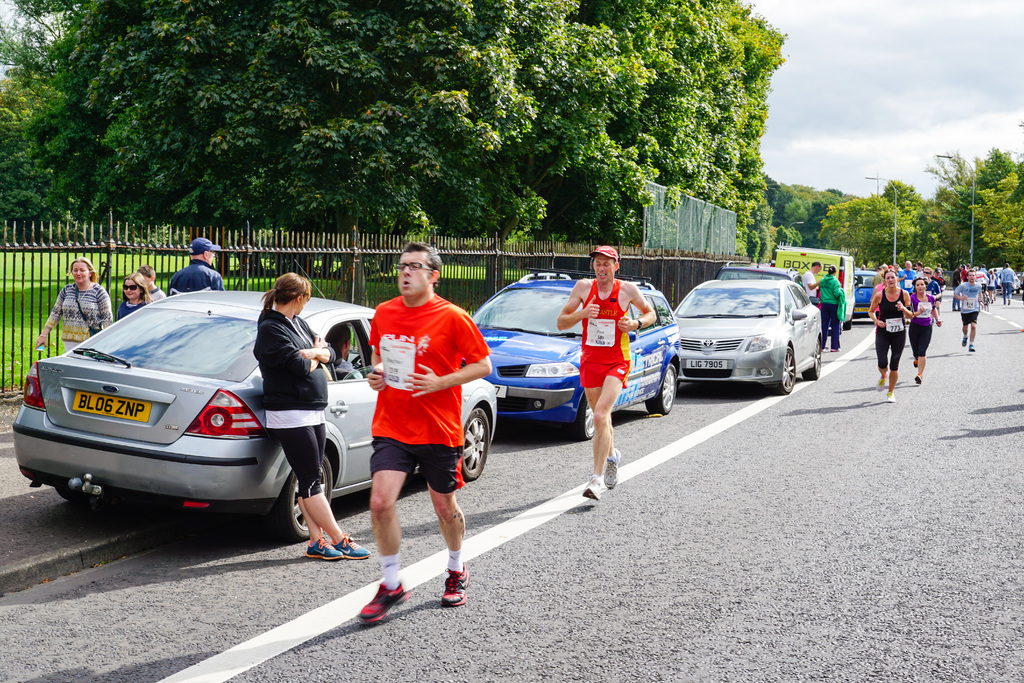cars: (16, 286, 495, 542), (471, 269, 681, 440), (671, 278, 826, 392), (718, 256, 807, 295), (852, 265, 875, 331)
